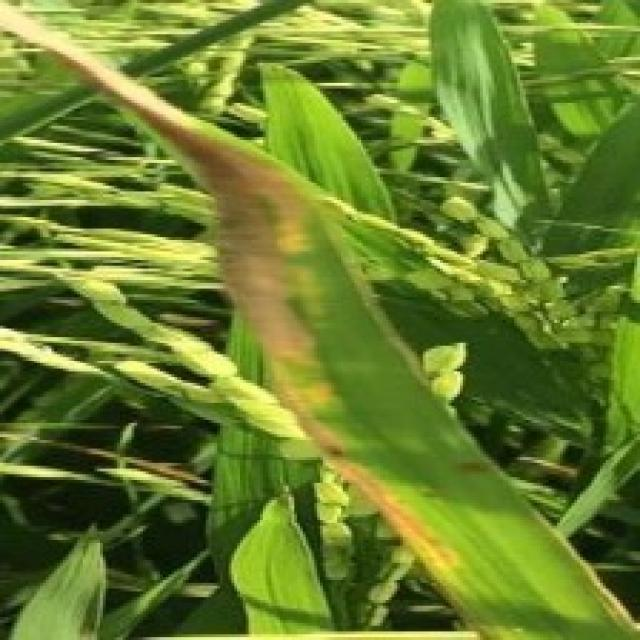Rice___Bacterial_Leaf_Blight: (0, 4, 637, 637)
